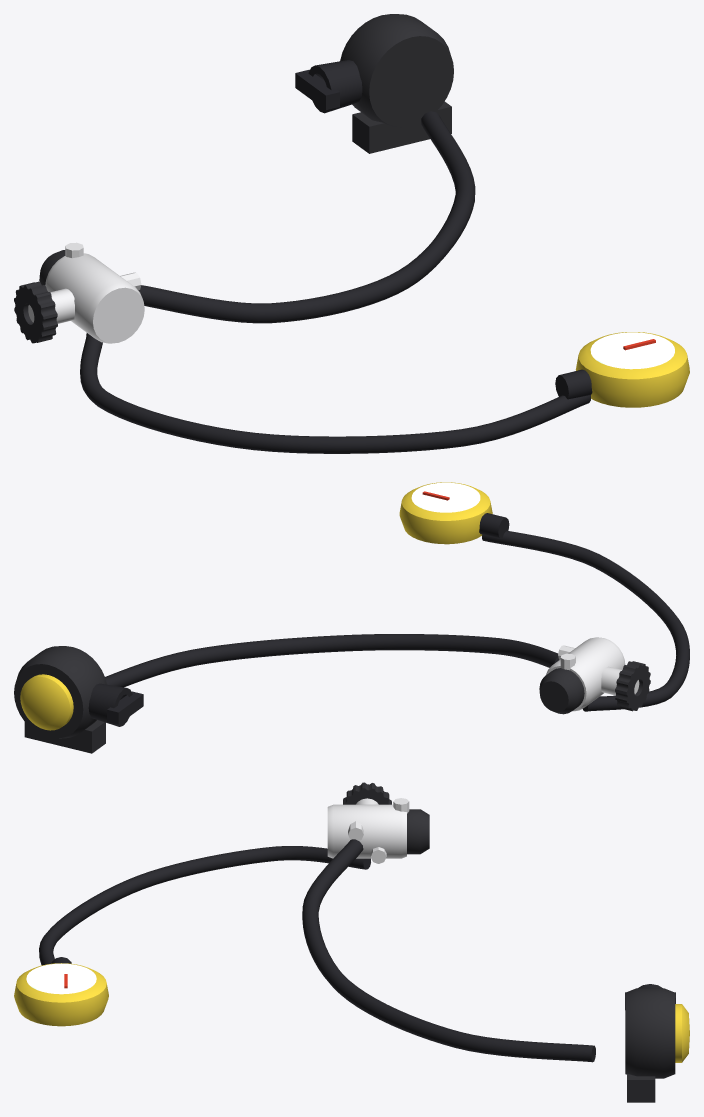
File: SM_Regulator.fbx
The picture shows the model from 3 angles, top to bottom: view 1: azimuth 30°, elevation 25°; view 2: azimuth 150°, elevation 25°; view 3: azimuth 270°, elevation 25°; orthographic projection. The views are drawn at different scales.
Visible parts, largest first — view 1: SM_Regulator; view 2: SM_Regulator; view 3: SM_Regulator.
Boxes of the visible parts, x1,y1,x2,y2 form: SM_Regulator: [14, 14, 689, 453]; SM_Regulator: [14, 482, 689, 753]; SM_Regulator: [14, 782, 689, 1102].
Size of the model in its own units: 0.496 by 0.091 by 0.597.
